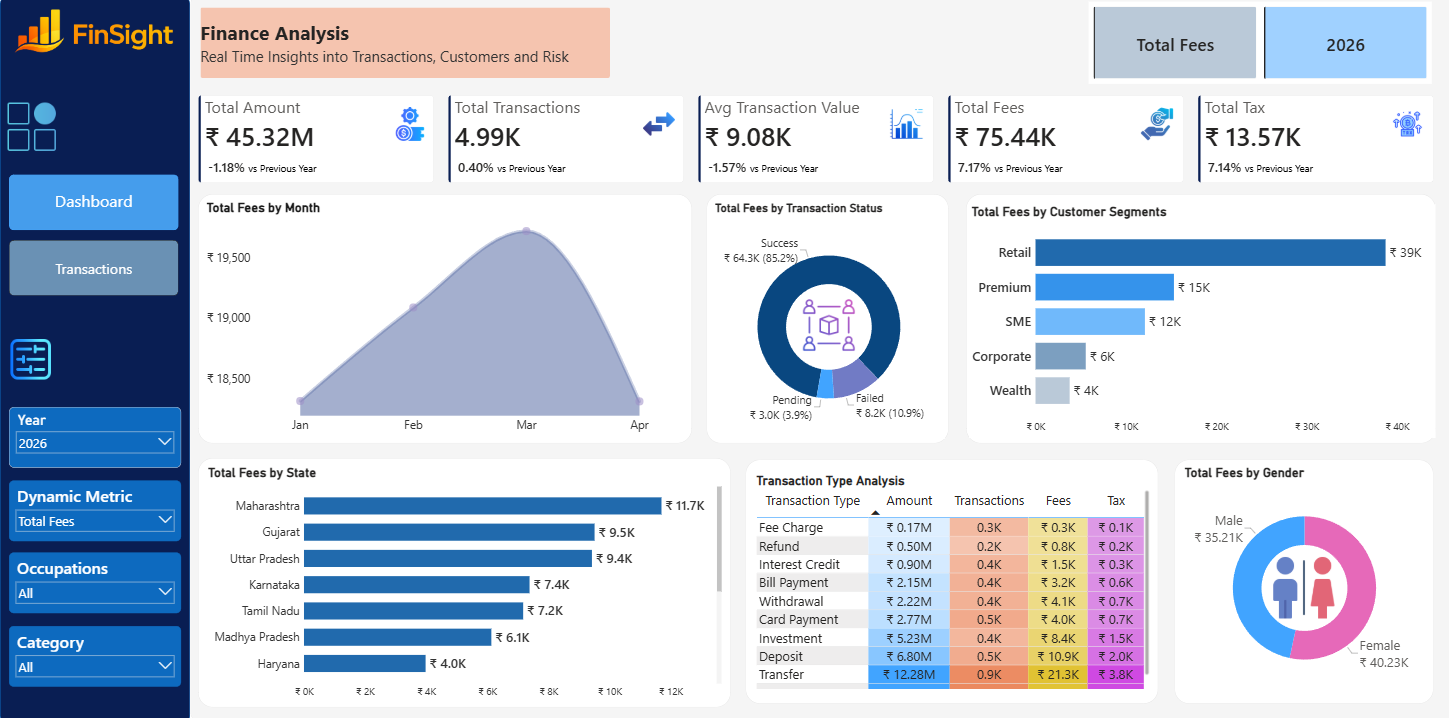

The page's visual inventory and layout, read from the dashboard file:
{"tool":"powerbi","page":{"name":"Dashboard","canvas":[3000,1500],"ordinal":0},"visuals":[{"type":"shape","box":[0,3.8,392.3,1496.2],"z":0},{"type":"shape","box":[392.3,0,2607.7,1496.2],"z":1000},{"type":"image","box":[3.3,6.7,390,133.3],"z":2000},{"type":"cardVisual","fields":{"Data":["finance_transactions.dashboard title"]},"box":[395,5,880,180],"z":3000},{"type":"cardVisual","fields":{"Data":["finance_transactions.Total Amount","finance_transactions.Total transaction","finance_transactions.Avg Transaction value","finance_transactions.total fees","finance_transactions.Total Tax"]},"box":[400,195,2570,200],"z":4000},{"type":"image","box":[810,230,70,70],"z":5000},{"type":"image","box":[1325,230,70,70],"z":6000},{"type":"image","box":[1835,230,70,70],"z":7000},{"type":"image","box":[2355,230,70,70],"z":8000},{"type":"image","box":[2870,230,70,70],"z":9000},{"type":"slicer","fields":{"Values":["dynamic metric.dynamic metric"]},"box":[18,1000,355,125],"z":10000},{"type":"shape","box":[410,410,1020,515],"z":11000},{"type":"areaChart","fields":{"Y":["finance_transactions.Total Fees"],"Category":["Calendar.Month"]},"box":[422,421,997,490],"z":12000},{"type":"cardVisual","fields":{"Data":["finance_transactions.selected dynamic","finance_transactions.Selected Year"]},"box":[2242.9,4.8,719,181],"z":13000},{"type":"shape","box":[1460,410,500,515],"z":14000},{"type":"donutChart","fields":{"Y":["finance_transactions.Total Fees"],"Category":["finance_transactions.transaction_status"]},"box":[1470,423,480,490],"z":15000},{"type":"shape","box":[1993.3,410,970,515],"z":16000},{"type":"barChart","fields":{"Y":["finance_transactions.Total Fees"],"Category":["customers.customer_segment"]},"box":[2000,431.8,963.6,481.8],"z":17000},{"type":"shape","box":[410,955,1100,515],"z":18000},{"type":"barChart","fields":{"Y":["finance_transactions.Total Fees"],"Category":["customers.state"]},"box":[425,970,1070,490],"z":19000},{"type":"shape","box":[2426.1,956.5,534.8,504.3],"z":20000},{"type":"shape","box":[1539.1,956.5,852.2,504.3],"z":21000},{"type":"tableEx","title":"Transaction Type Analysis ","fields":{"Values":["finance_transactions.transaction_type","finance_transactions.Total Amount","finance_transactions.Total Transactions","finance_transactions.Total Fees","finance_transactions.Total Tax"]},"box":[1550,975,831.8,463.6],"z":22000},{"type":"donutChart","fields":{"Y":["finance_transactions.Total Fees"],"Category":["customers.gender"]},"box":[2440,970,505,475],"z":23000},{"type":"image","box":[2603.6,1150,175,145],"z":24000},{"type":"image","box":[1655,620,115,120],"z":25000},{"type":"slicer","fields":{"Values":["Calendar.Year"]},"box":[18,850,355,125],"z":26000},{"type":"slicer","fields":{"Values":["customers.occupation"]},"box":[18,1150,355,125],"z":27000},{"type":"slicer","fields":{"Values":["finance_transactions.merchant_category"]},"box":[18,1300,355,125],"z":28000},{"type":"pageNavigator","box":[20,370,350,250],"z":29000},{"type":"image","box":[15.4,220,100,100],"z":30000},{"type":"image","box":[15,700,96.2,100],"z":31000}]}

Visuals, with their boxes on the page's 3000x1500 design canvas (x1, y1, x2, y2). These are canvas units, not pixel positions in the 1449x718 screenshot, which may show the page scaled, cropped or inside an application window:
shape: (x1=0, y1=4, x2=392, y2=1500)
shape: (x1=392, y1=0, x2=3000, y2=1496)
image: (x1=3, y1=7, x2=393, y2=140)
cardVisual - finance_transactions.dashboard title: (x1=395, y1=5, x2=1275, y2=185)
cardVisual - finance_transactions.Total Amount x finance_transactions.Total transaction: (x1=400, y1=195, x2=2970, y2=395)
image: (x1=810, y1=230, x2=880, y2=300)
image: (x1=1325, y1=230, x2=1395, y2=300)
image: (x1=1835, y1=230, x2=1905, y2=300)
image: (x1=2355, y1=230, x2=2425, y2=300)
image: (x1=2870, y1=230, x2=2940, y2=300)
slicer - dynamic metric.dynamic metric: (x1=18, y1=1000, x2=373, y2=1125)
shape: (x1=410, y1=410, x2=1430, y2=925)
areaChart - finance_transactions.Total Fees x Calendar.Month: (x1=422, y1=421, x2=1419, y2=911)
cardVisual - finance_transactions.selected dynamic x finance_transactions.Selected Year: (x1=2243, y1=5, x2=2962, y2=186)
shape: (x1=1460, y1=410, x2=1960, y2=925)
donutChart - finance_transactions.Total Fees x finance_transactions.transaction_status: (x1=1470, y1=423, x2=1950, y2=913)
shape: (x1=1993, y1=410, x2=2963, y2=925)
barChart - finance_transactions.Total Fees x customers.customer_segment: (x1=2000, y1=432, x2=2964, y2=914)
shape: (x1=410, y1=955, x2=1510, y2=1470)
barChart - finance_transactions.Total Fees x customers.state: (x1=425, y1=970, x2=1495, y2=1460)
shape: (x1=2426, y1=956, x2=2961, y2=1461)
shape: (x1=1539, y1=956, x2=2391, y2=1461)
"Transaction Type Analysis " tableEx: (x1=1550, y1=975, x2=2382, y2=1439)
donutChart - finance_transactions.Total Fees x customers.gender: (x1=2440, y1=970, x2=2945, y2=1445)
image: (x1=2604, y1=1150, x2=2779, y2=1295)
image: (x1=1655, y1=620, x2=1770, y2=740)
slicer - Calendar.Year: (x1=18, y1=850, x2=373, y2=975)
slicer - customers.occupation: (x1=18, y1=1150, x2=373, y2=1275)
slicer - finance_transactions.merchant_category: (x1=18, y1=1300, x2=373, y2=1425)
pageNavigator: (x1=20, y1=370, x2=370, y2=620)
image: (x1=15, y1=220, x2=115, y2=320)
image: (x1=15, y1=700, x2=111, y2=800)
